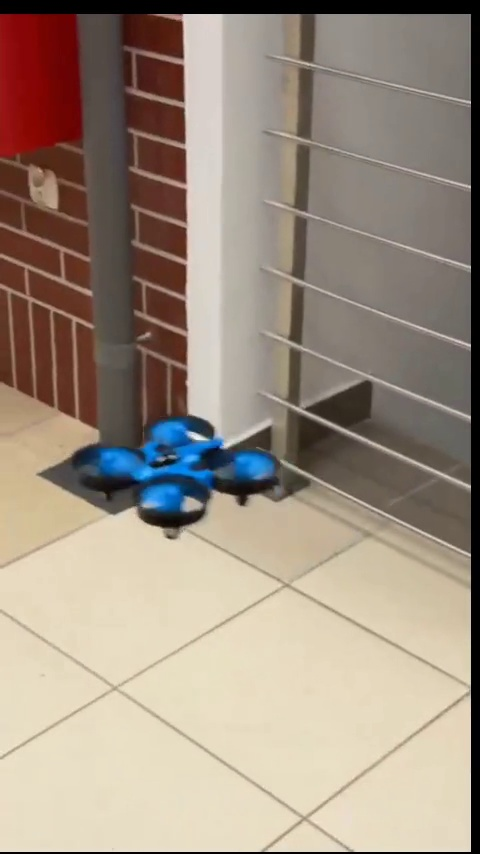drone: (72, 416, 280, 540)
